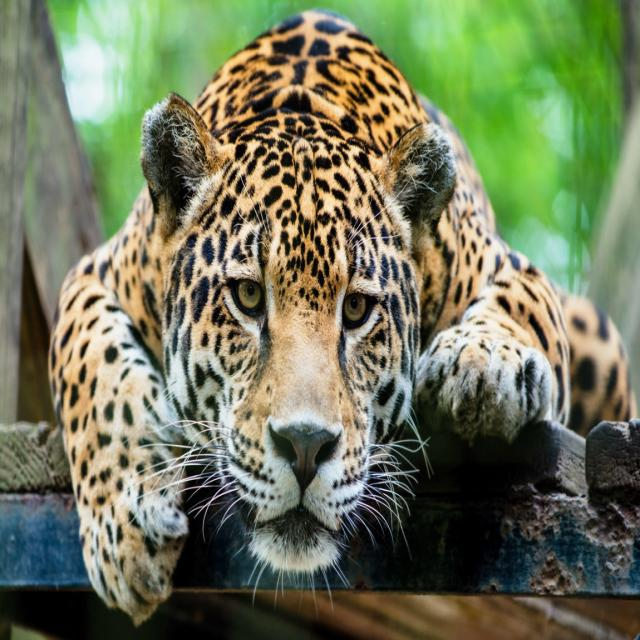Jaguar: (53, 22, 584, 604)
